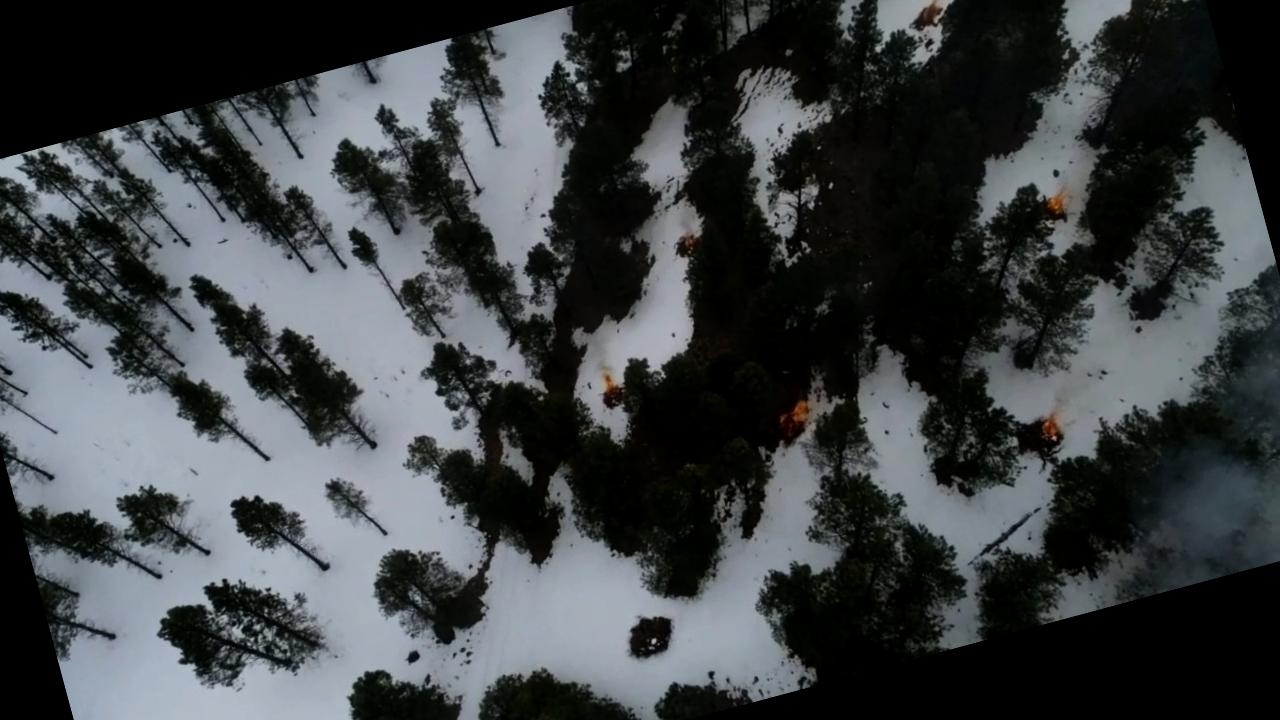fire: (769, 394, 822, 456), (1034, 410, 1074, 452), (1046, 191, 1082, 229)
smoke: (1061, 352, 1280, 606)
